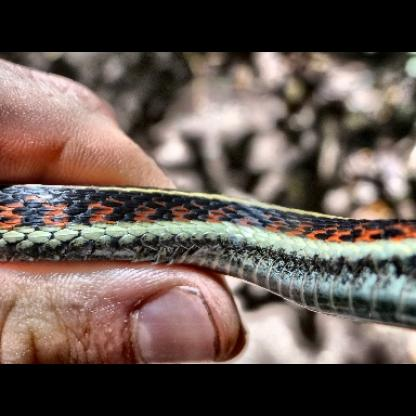Snake: (6, 167, 411, 324)
